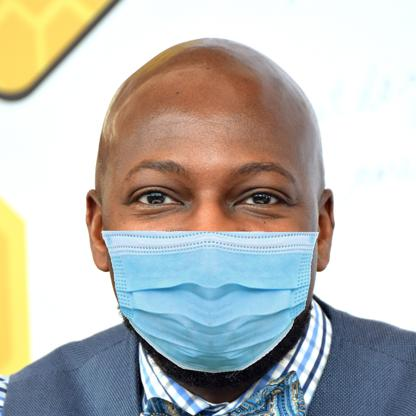mask: (98, 226, 322, 376)
